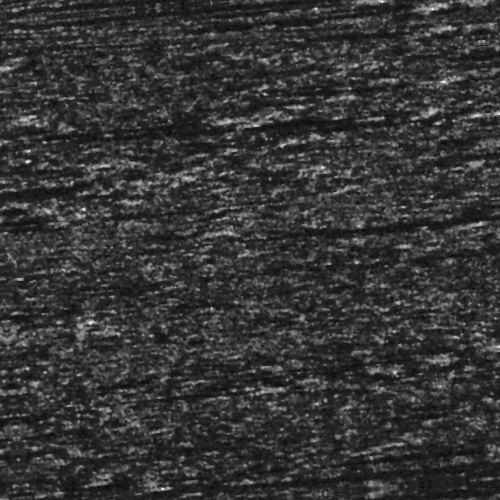object: (391, 17, 500, 24), (201, 385, 284, 394), (363, 1, 426, 6), (330, 69, 371, 76), (427, 93, 480, 98)
shadow: (162, 473, 500, 492), (0, 1, 395, 6), (215, 17, 449, 24), (192, 69, 350, 76), (301, 93, 453, 98), (163, 385, 242, 394)
